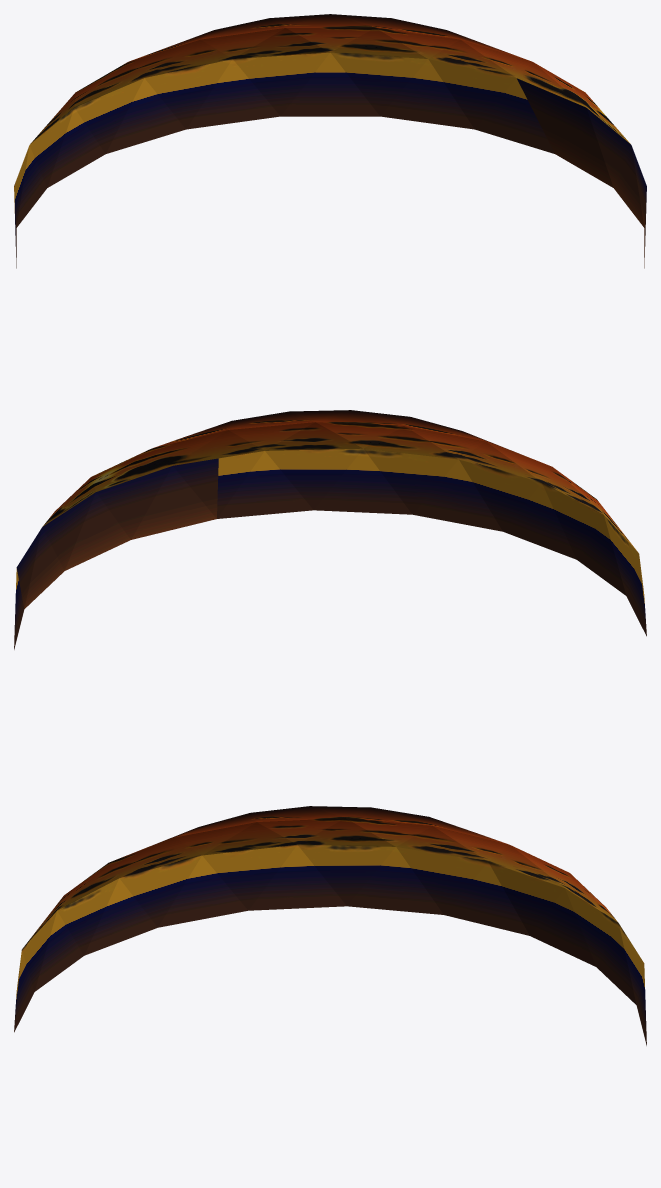
Rendered from vrcorn.glb.
The picture shows the model from 3 angles, top to bottom: view 1: azimuth 30°, elevation 25°; view 2: azimuth 150°, elevation 25°; view 3: azimuth 270°, elevation 25°; orthographic projection.
Visible parts, largest first — view 1: polygon0; view 2: polygon0; view 3: polygon0.
Part boxes in pixels (box(x1,y1,x2,y2)): polygon0: box(14, 14, 646, 268); polygon0: box(14, 410, 646, 649); polygon0: box(14, 806, 646, 1045).
Bounding box in the file's own units: 1736 × 606 × 1736.
1 material, 1 textured.
